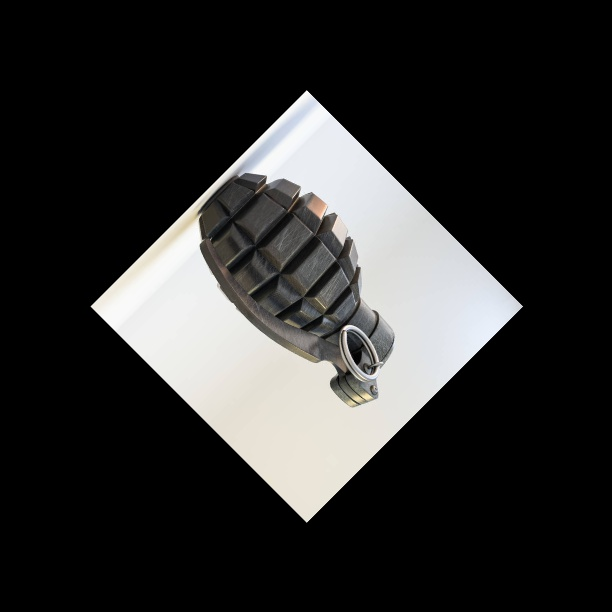e1: (199, 172, 397, 412)
